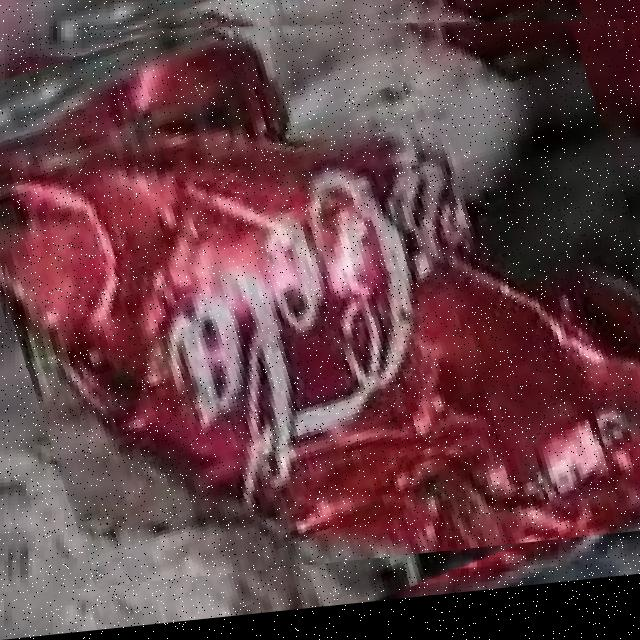litter: (2, 29, 640, 562)
